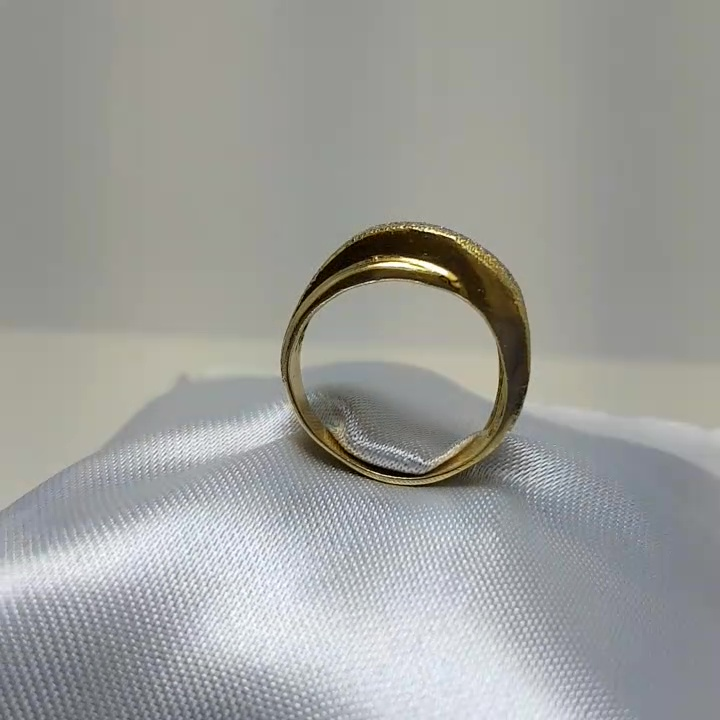Ring 5: (265, 186, 561, 519)
